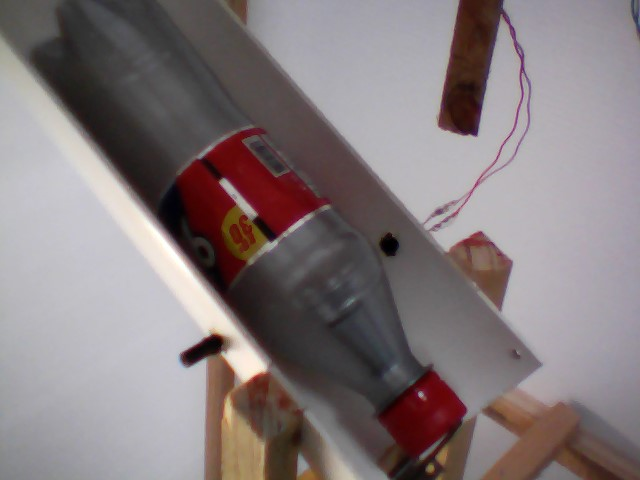plastico: (30, 1, 472, 459)
